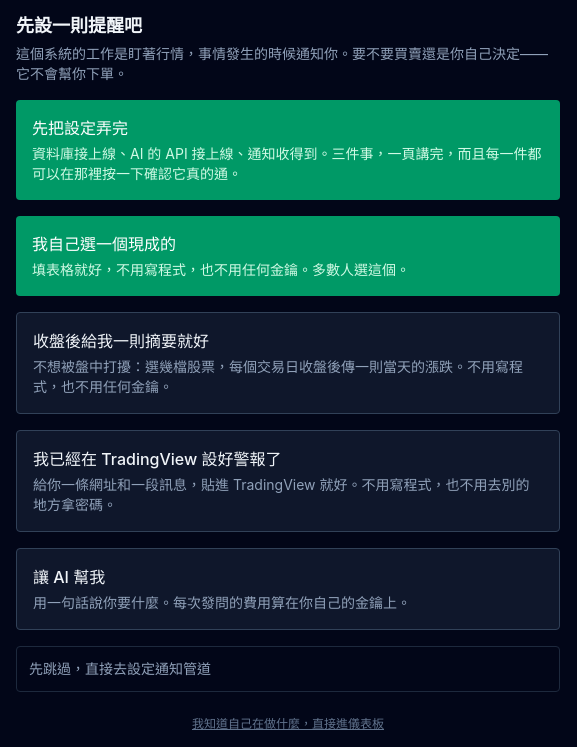
引導流程 › 選「我自己選」就看到現成的範本，全程沒有 AI 也沒有金鑰
Click the button "我自己選一個現成的 填表格就好，不用寫程式，也不用任何金鑰。多數人選這個。" at (104, 244), box [16,216,560,296]
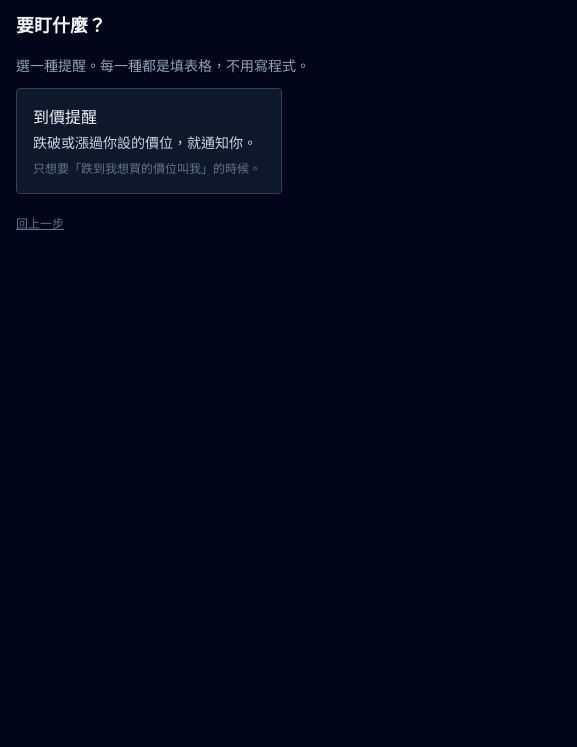
Result: the text "到價提醒" is shown at [33,107,97,127]
